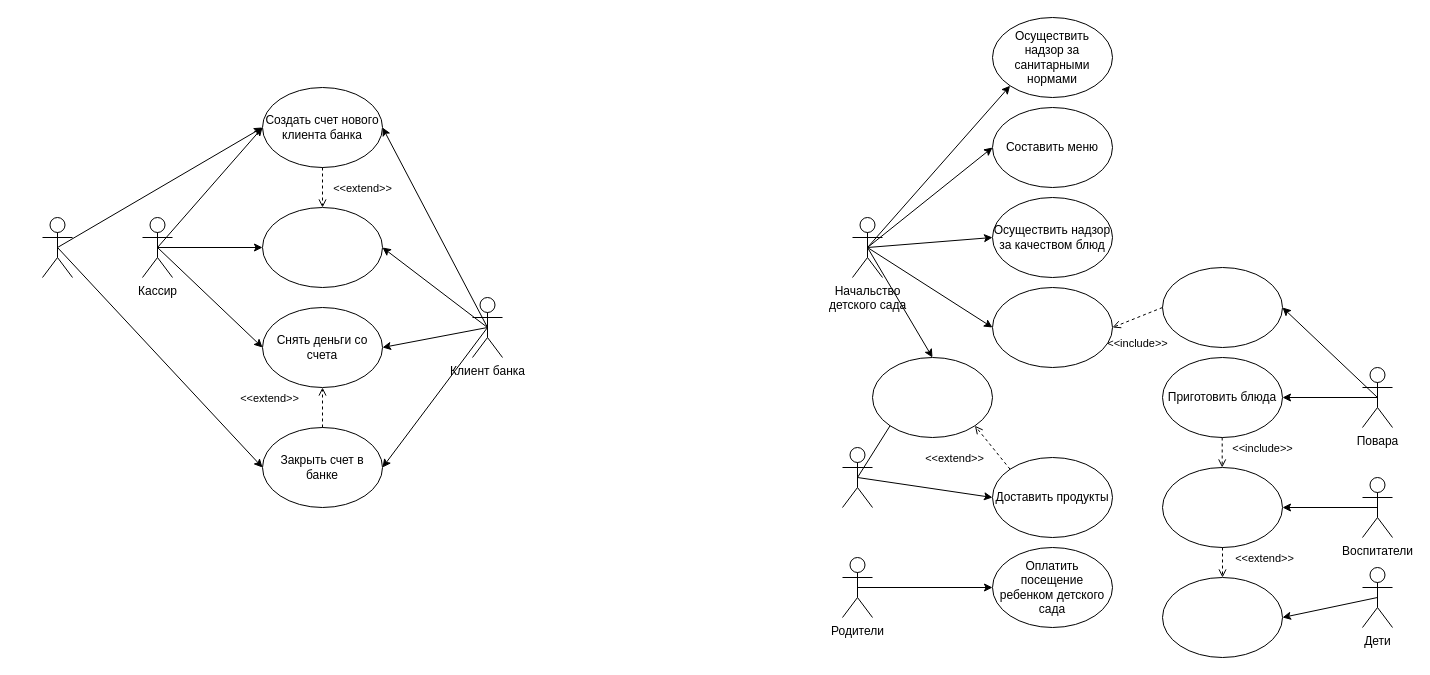
This 1430x675 diagram has some shape labels left out. The box of each missing label's shape, as (x1, y1, x2, y2) in pixels:
Заказать продукты: (872, 356, 992, 438)
Операционист банка: (42, 216, 72, 278)
Пополнить счет: (262, 206, 382, 288)
Поставщик продуктов: (842, 446, 872, 508)
Потреблять приготовленные блюда: (1162, 576, 1282, 658)
Сервировать блюда по группам: (1162, 466, 1282, 548)
Учесть доставленные продукты: (992, 286, 1112, 368)
Учесть наличие продуктов: (1162, 266, 1282, 348)
